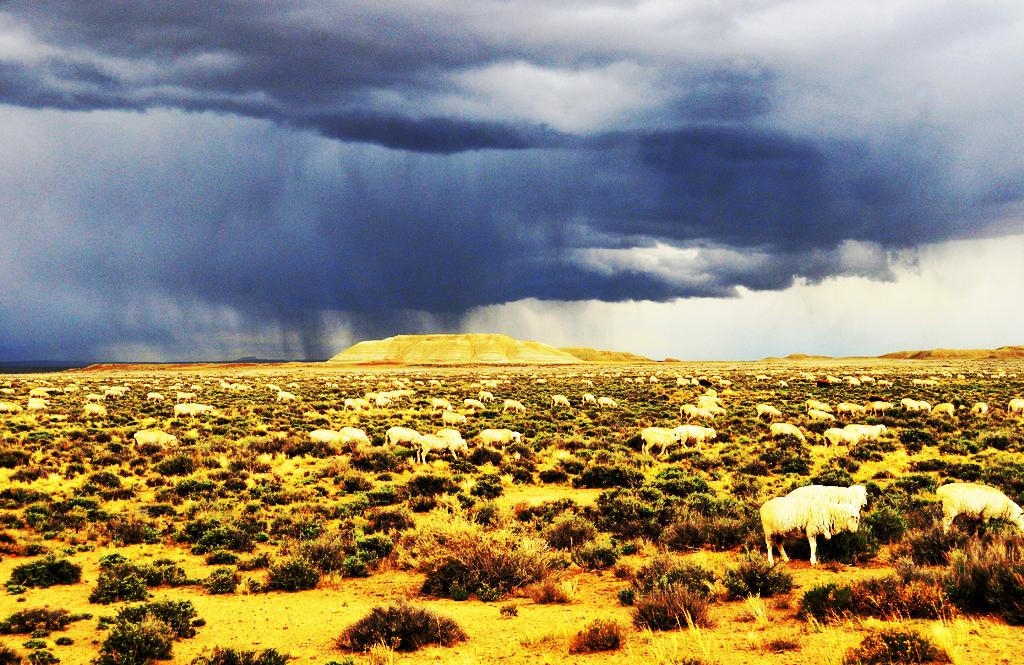Sheep: (759, 486, 869, 564), (939, 484, 1024, 538), (309, 429, 374, 456), (418, 429, 468, 463), (671, 426, 717, 451), (474, 429, 523, 452), (640, 428, 680, 455), (823, 428, 868, 450), (386, 427, 423, 451), (135, 431, 177, 451), (771, 423, 807, 444), (174, 404, 213, 421), (843, 424, 887, 439), (902, 399, 930, 414), (805, 399, 834, 413), (838, 403, 865, 418), (757, 404, 782, 420), (808, 409, 836, 423), (502, 400, 526, 416), (866, 401, 893, 415), (443, 412, 467, 427), (84, 404, 107, 418), (697, 395, 723, 407), (702, 405, 727, 417), (688, 409, 711, 422), (931, 404, 955, 416), (432, 399, 454, 412), (176, 392, 199, 404), (464, 399, 485, 411), (551, 396, 572, 407), (28, 400, 49, 411), (0, 402, 21, 413), (598, 396, 617, 408), (698, 400, 718, 411), (680, 405, 697, 417), (355, 399, 373, 410), (345, 399, 360, 412), (29, 389, 48, 399), (85, 393, 106, 402), (147, 392, 164, 403), (582, 393, 596, 404), (866, 0, 889, 6), (922, 380, 939, 388), (878, 380, 893, 389), (912, 379, 924, 387)
